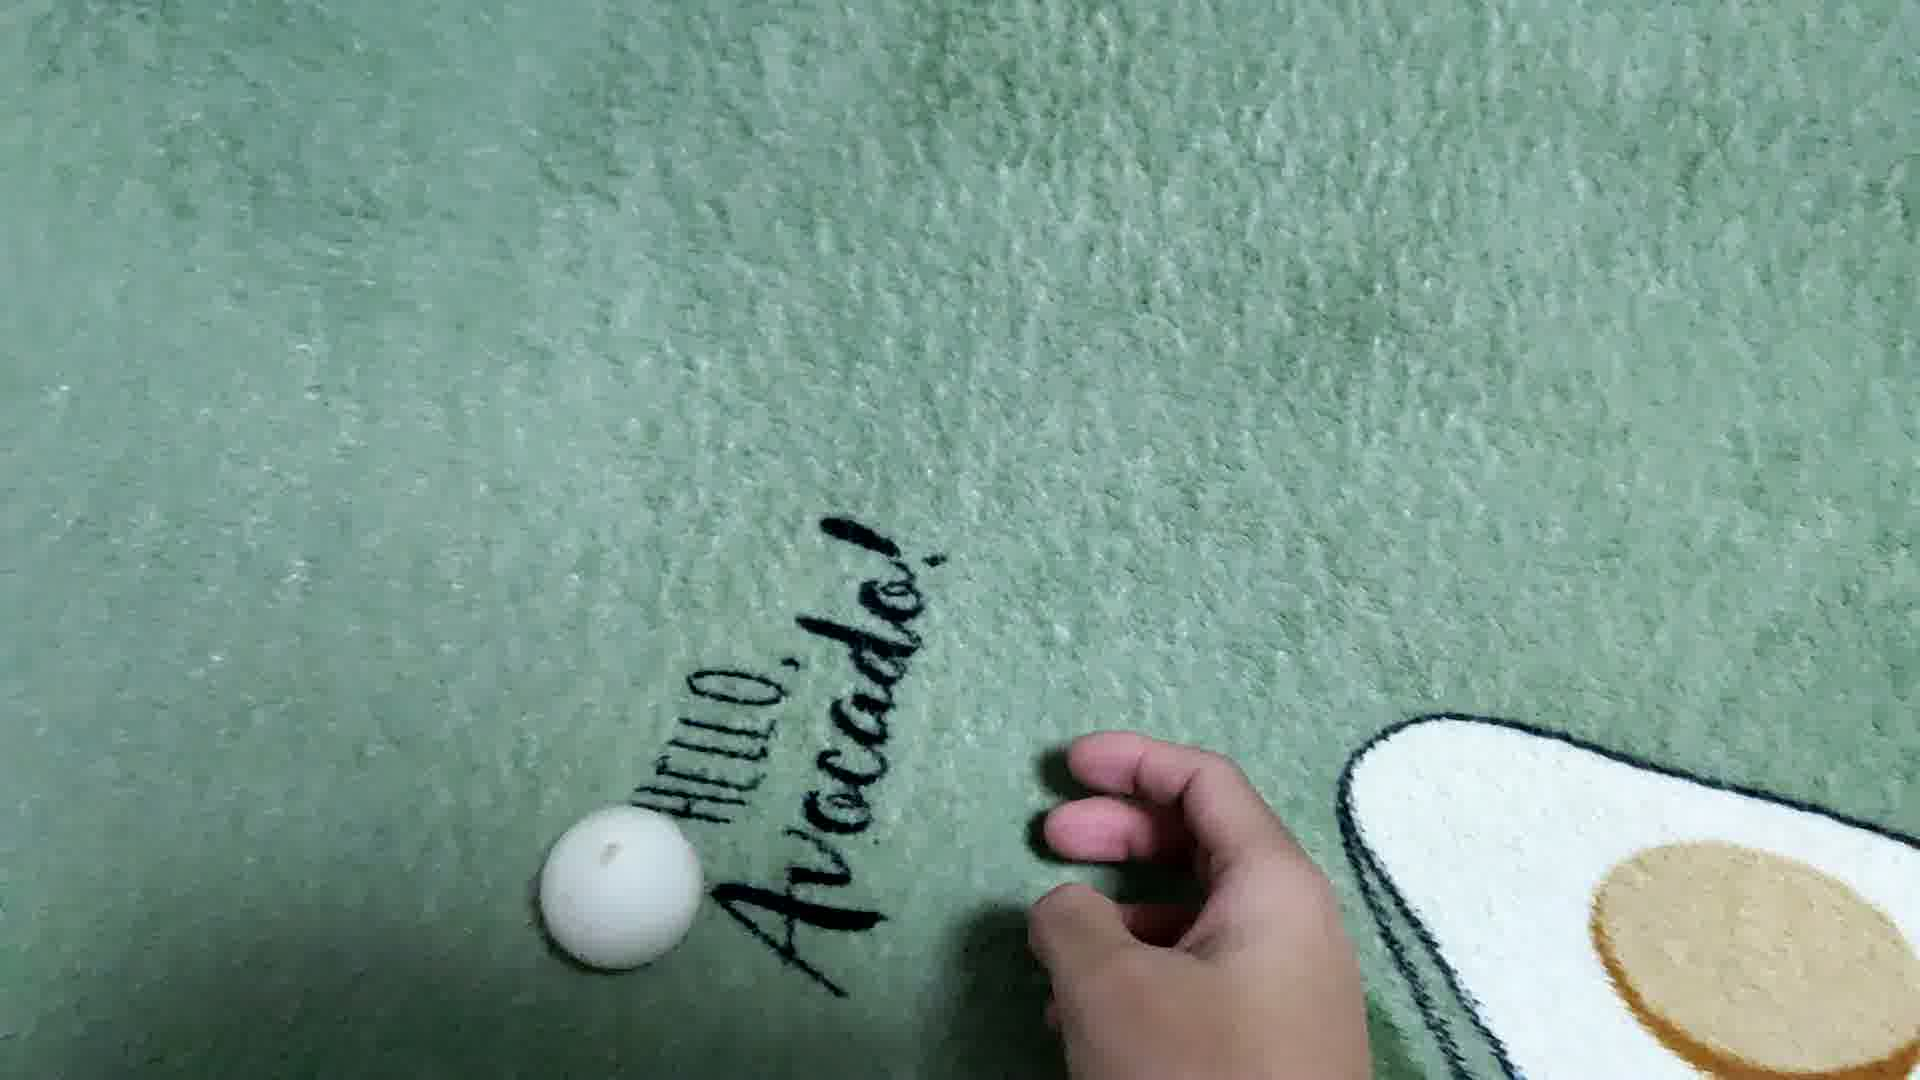Ball: (535, 803, 699, 975)
